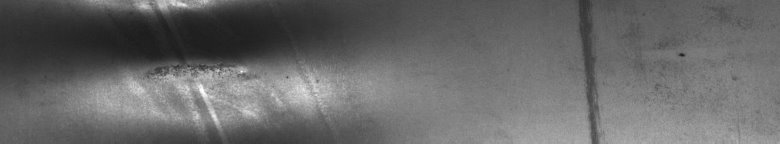ke: (78, 4, 319, 136)
